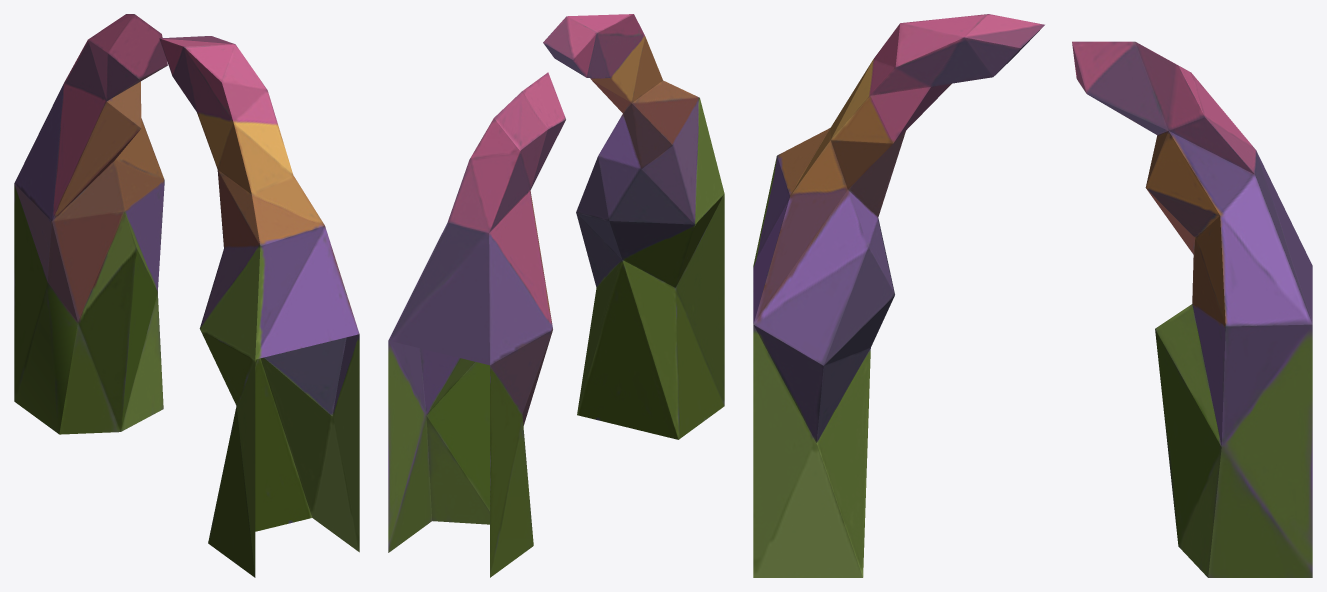
Rendered from door01.fbx.
The picture shows the model from 3 angles, left to right: view 1: azimuth 30°, elevation 25°; view 2: azimuth 150°, elevation 25°; view 3: azimuth 270°, elevation 25°; orthographic projection. The views are drawn at different scales.
Parts seen in each view (by area): view 1: door01; view 2: door01; view 3: door01.
Part boxes in pixels (x1=…): door01: x1=14, y1=14, x2=359, y2=577; door01: x1=388, y1=14, x2=724, y2=577; door01: x1=753, y1=14, x2=1312, y2=577.
Size of the model in its own units: 0.013 by 0.0412 by 0.04.
